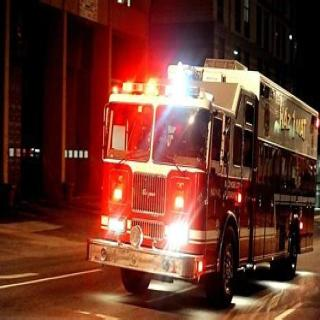Fire_truck: (86, 57, 318, 306)
